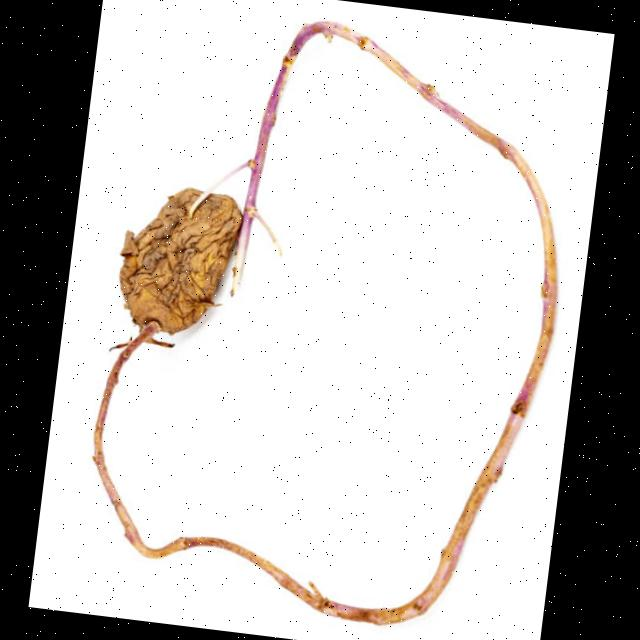Sprouted potato: (47, 96, 346, 514)
